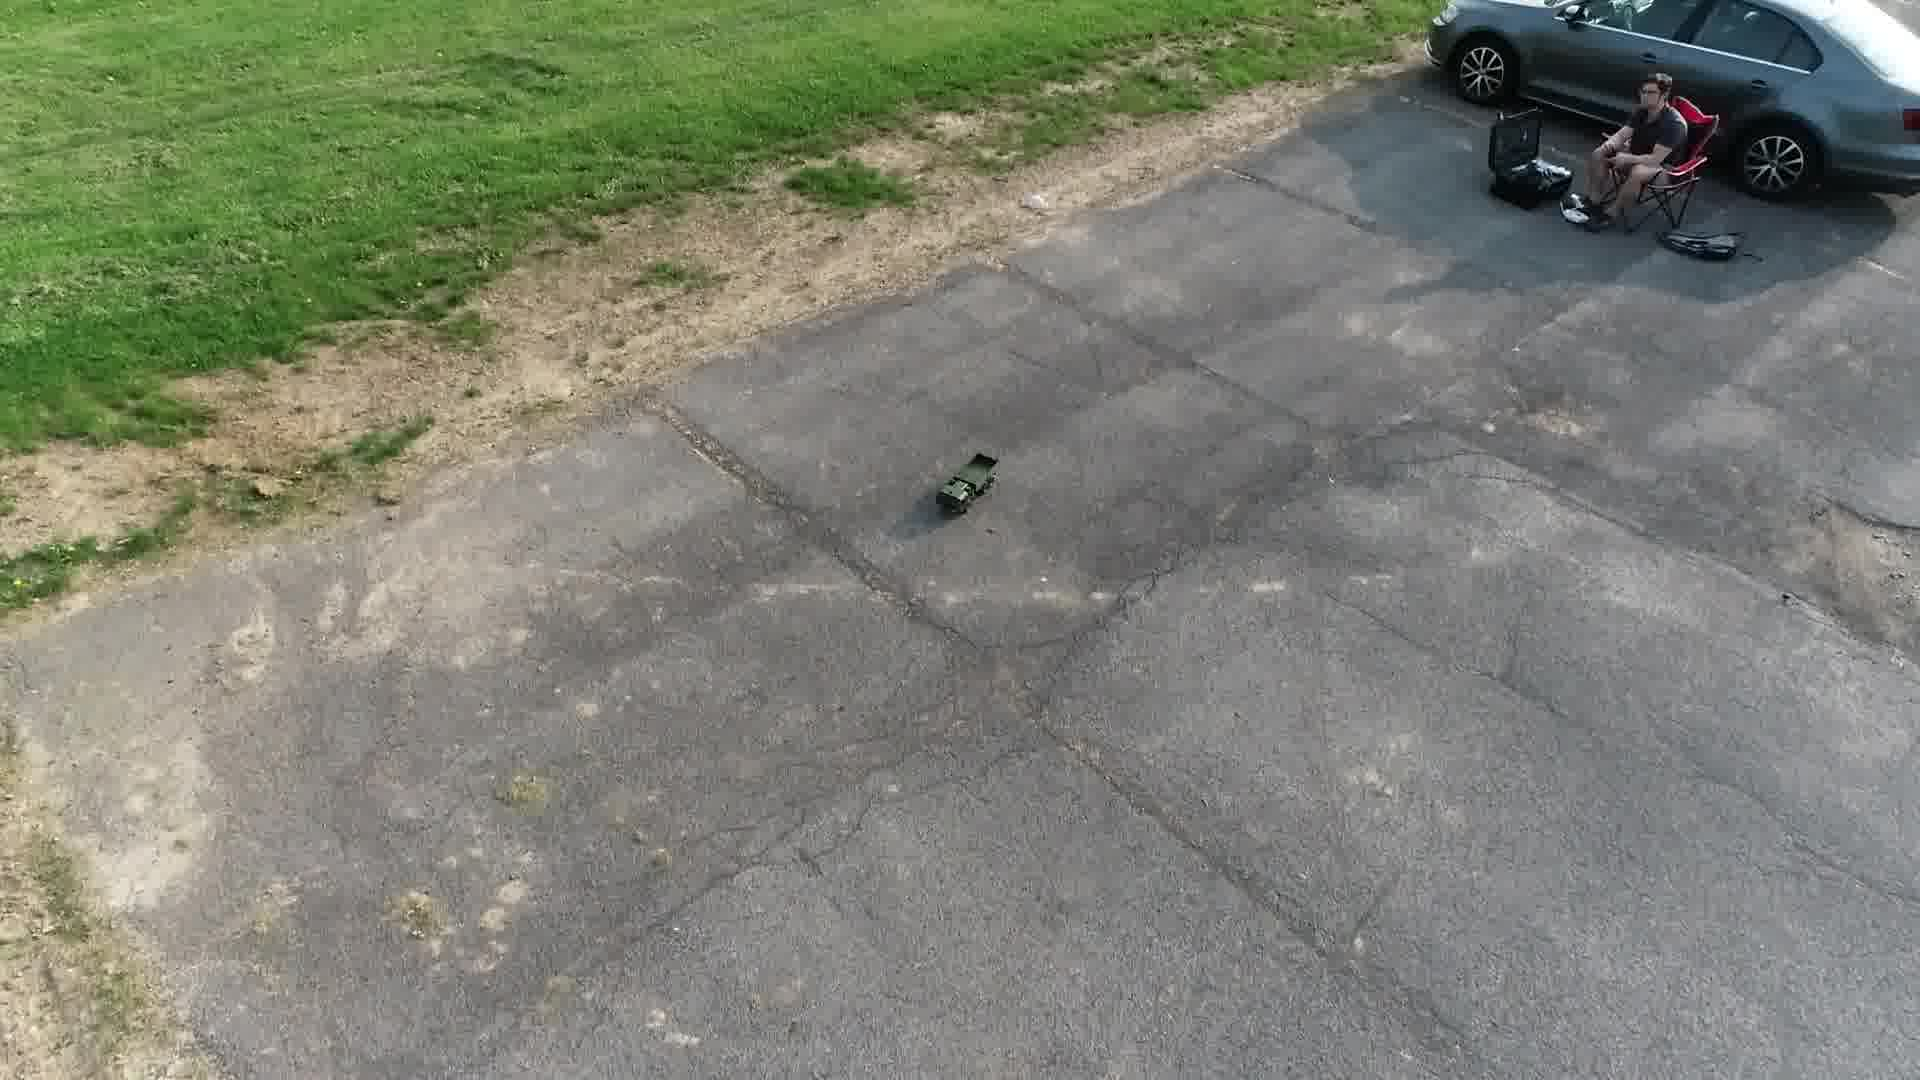transporter9: (932, 448, 1001, 517)
